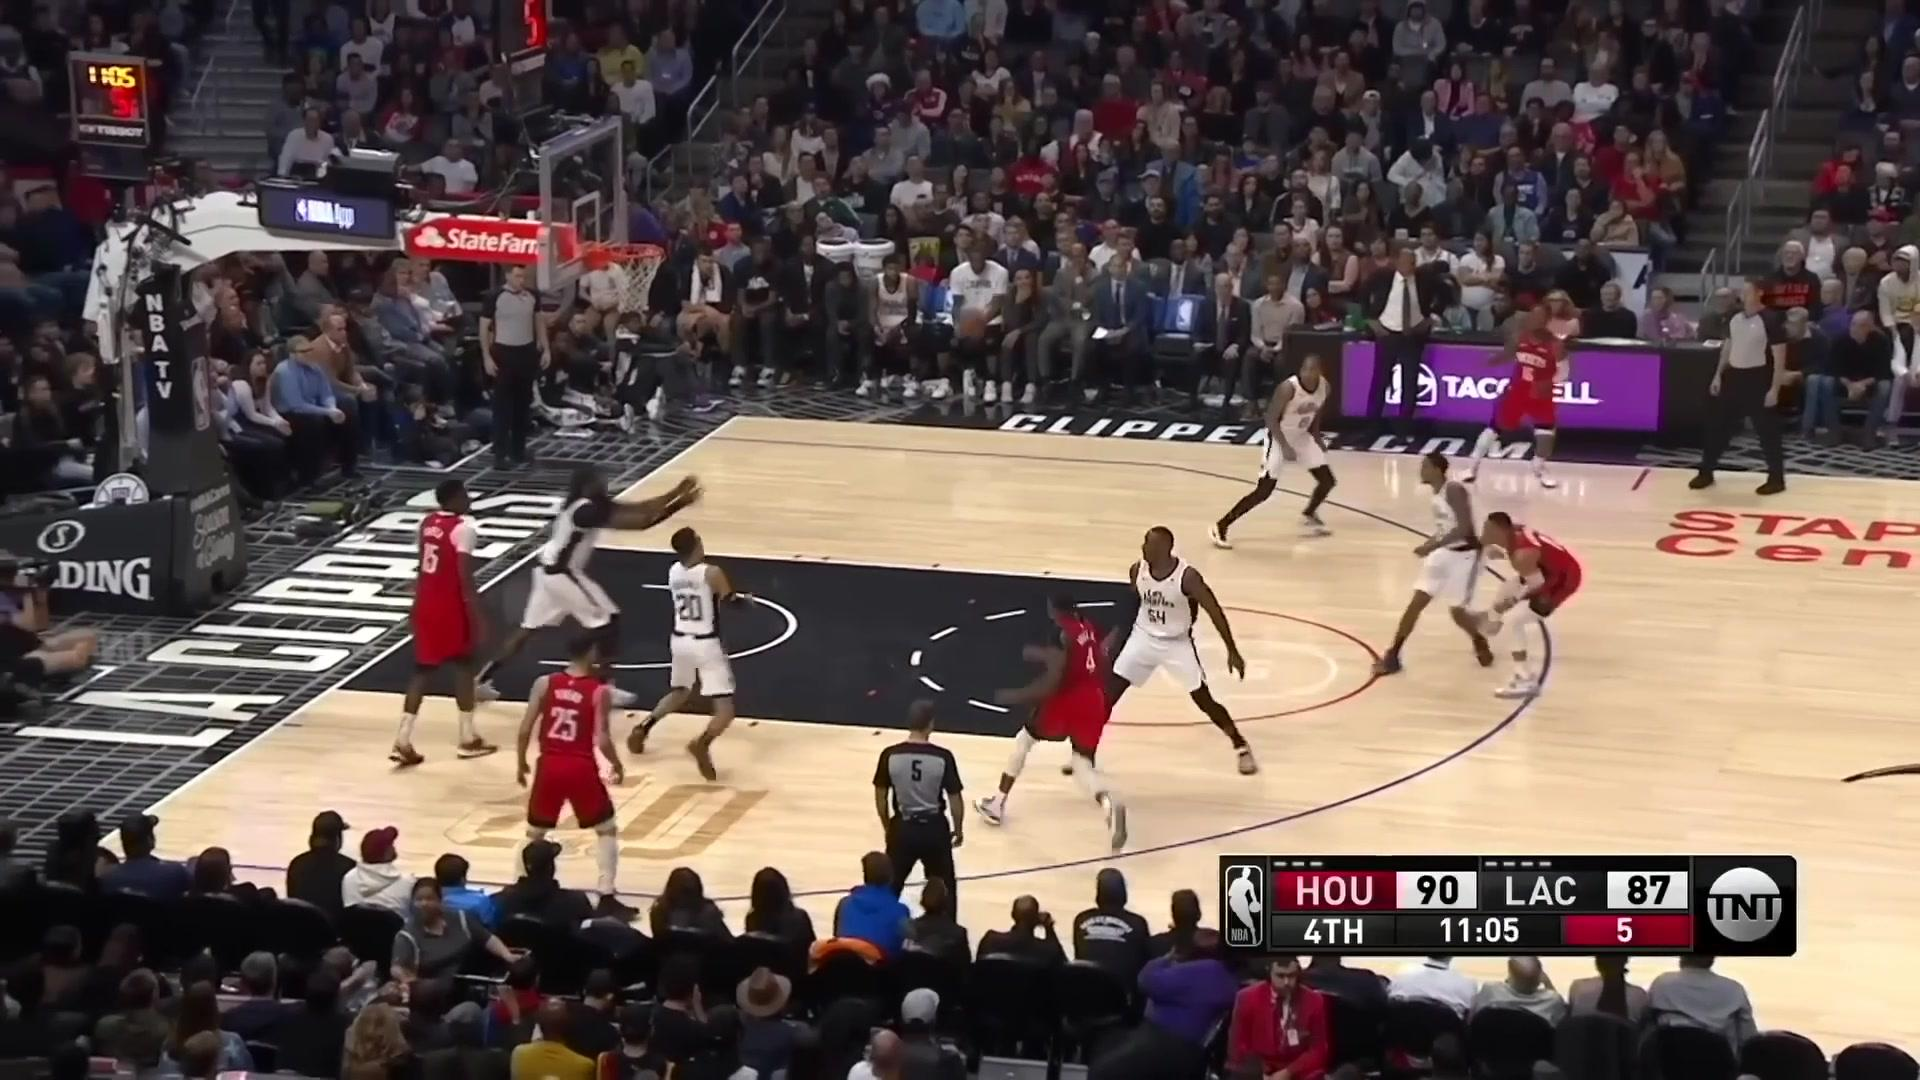foul: (1360, 436, 1596, 737)
